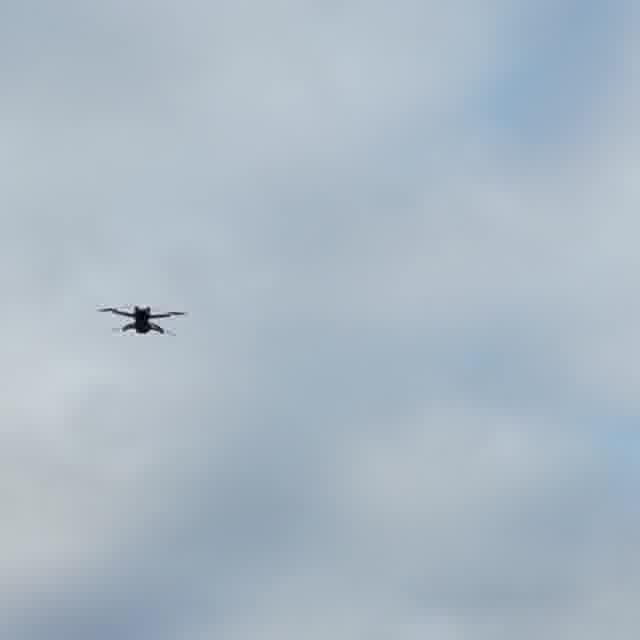Drohne: (98, 305, 186, 334)
